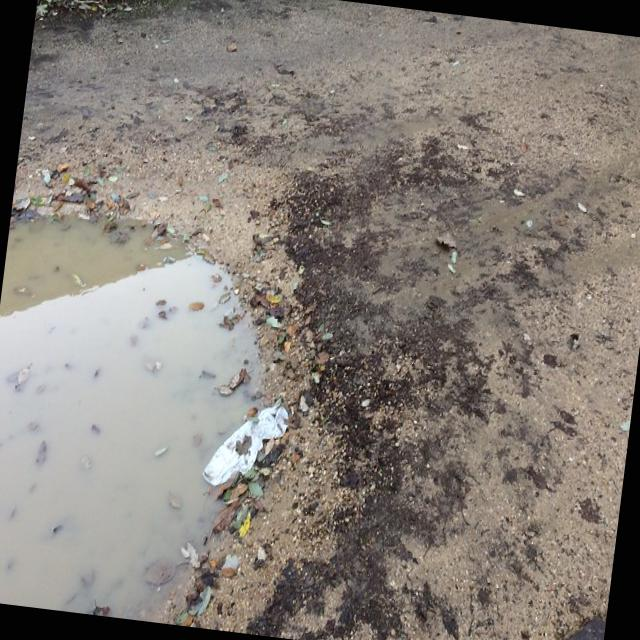Trash: (198, 389, 292, 504)
